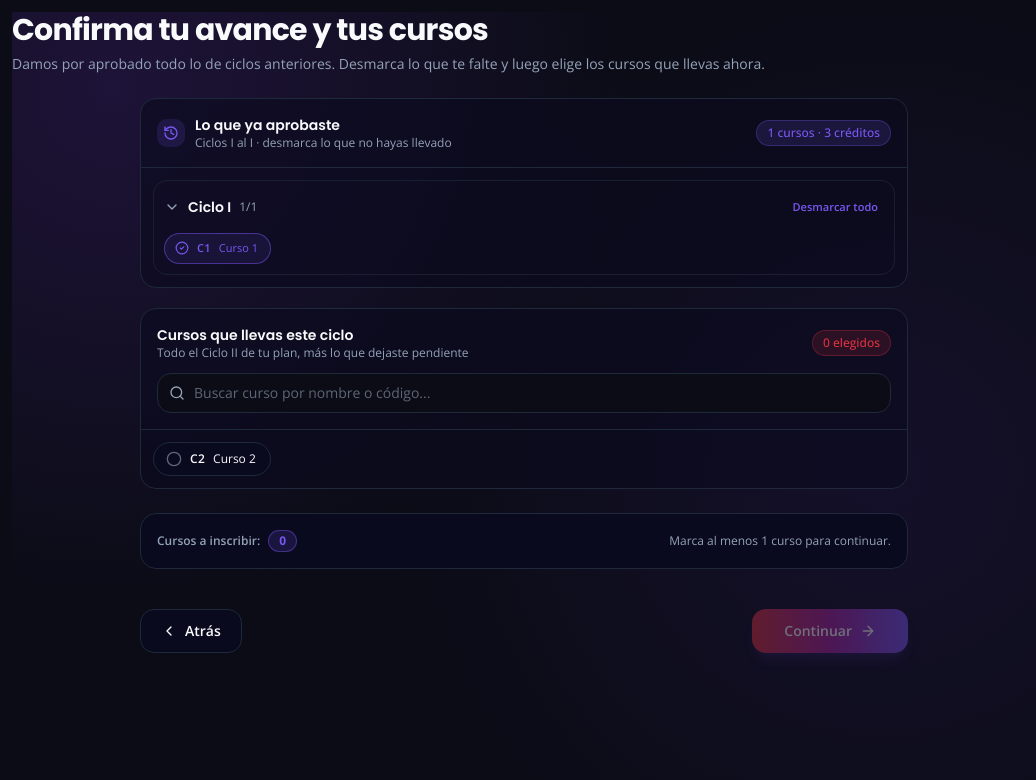
Test case: prerrequisitos › desmarcar el prerrequisito suelta el curso ya elegido
The image size is (1036, 780).
// Se elige el curso 2 y luego se desmarca su prerrequisito en el historial.
Click the button "C2 Curso 2": {"x": 212, "y": 458} [153, 442, 271, 476]
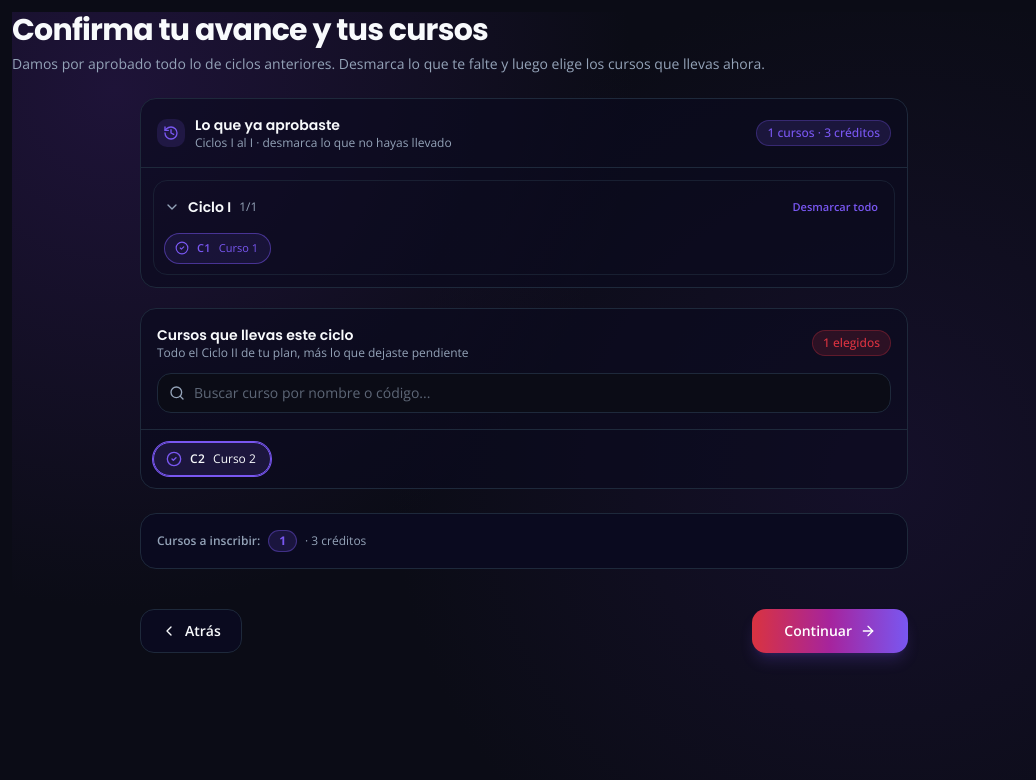
Expected: the text "1 elegidos" is shown, [812, 330, 891, 356]
Click the button "C1 Curso 1": {"x": 218, "y": 248} [164, 233, 271, 264]
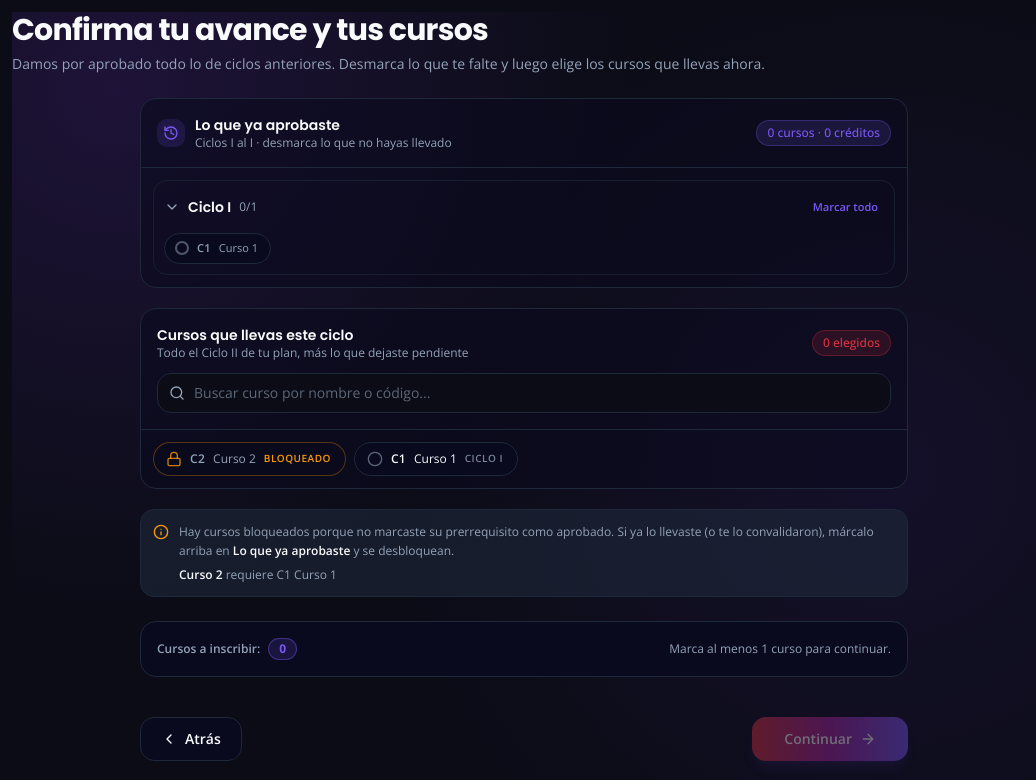
Expected: the text "0 elegidos" is shown, [812, 330, 891, 356]
Expected: the button "C2 Curso 2 Bloqueado" is disabled, [153, 442, 346, 476]
